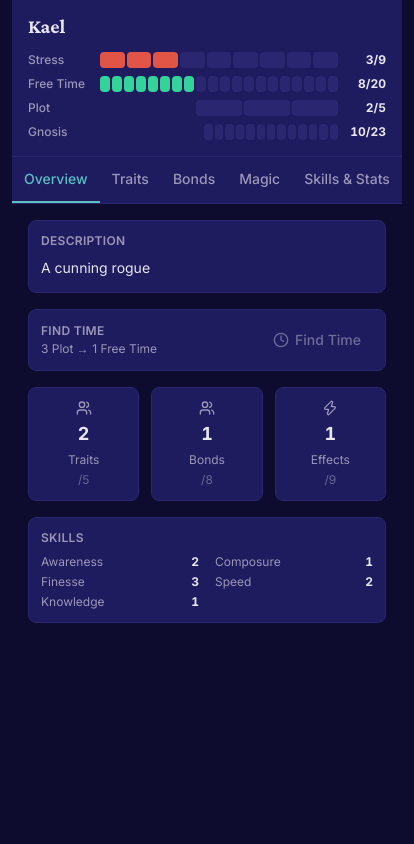
Test: character sheet — tab switching › switching to Skills tab reveals skill grid in tab panel
Expected: the element named "Stress: 3 of 9" is shown, [28,52,386,68]
Click the tab "Skills & Stats". click: (347, 180)
box: [292,157,402,203]
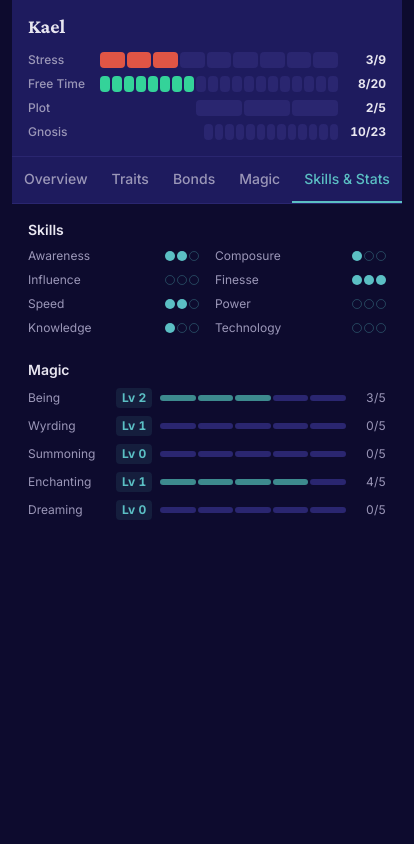
Expected: the heading "Skills" is shown, [28,221,64,238]
Expected: the heading "Magic" is shown, [28,361,70,378]
